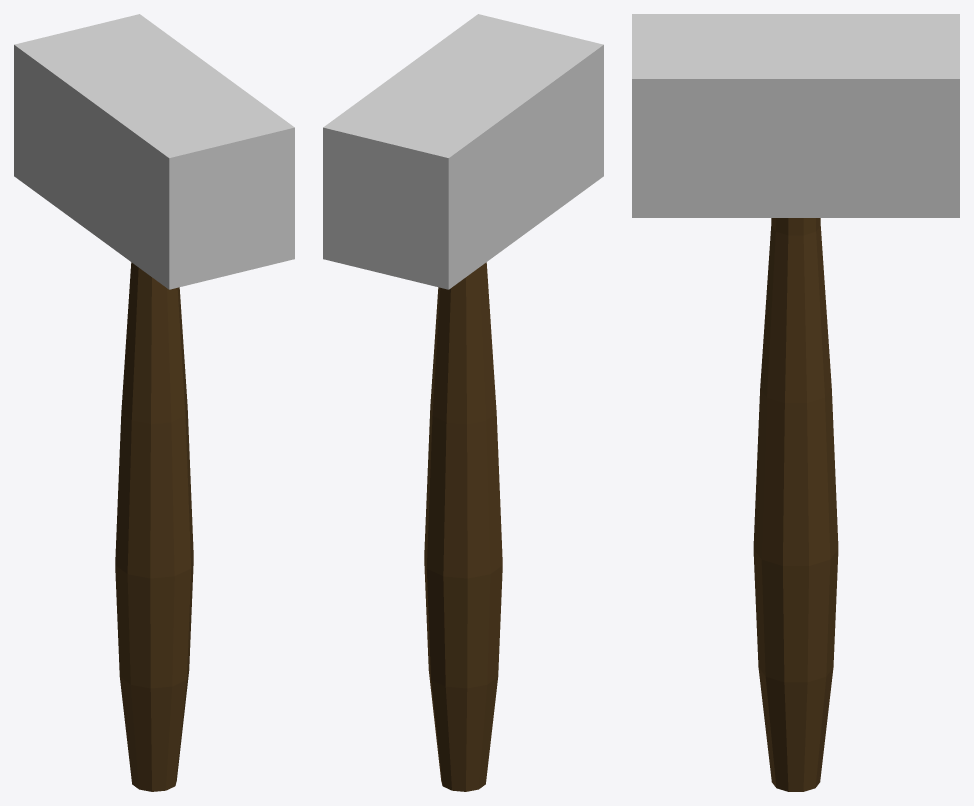
Rendered from hammer_ouch.glb.
The picture shows the model from 3 angles, left to right: view 1: azimuth 30°, elevation 25°; view 2: azimuth 150°, elevation 25°; view 3: azimuth 270°, elevation 25°; orthographic projection. The views are drawn at different scales.
Visible parts, largest first — view 1: hammer_ouch; view 2: hammer_ouch; view 3: hammer_ouch.
Boxes of the visible parts, x1,y1,x2,y2 form: hammer_ouch: [14, 14, 294, 791]; hammer_ouch: [323, 14, 603, 791]; hammer_ouch: [632, 14, 959, 791].
Size of the model in its own units: 0.0511 by 0.2705 by 0.1092.
